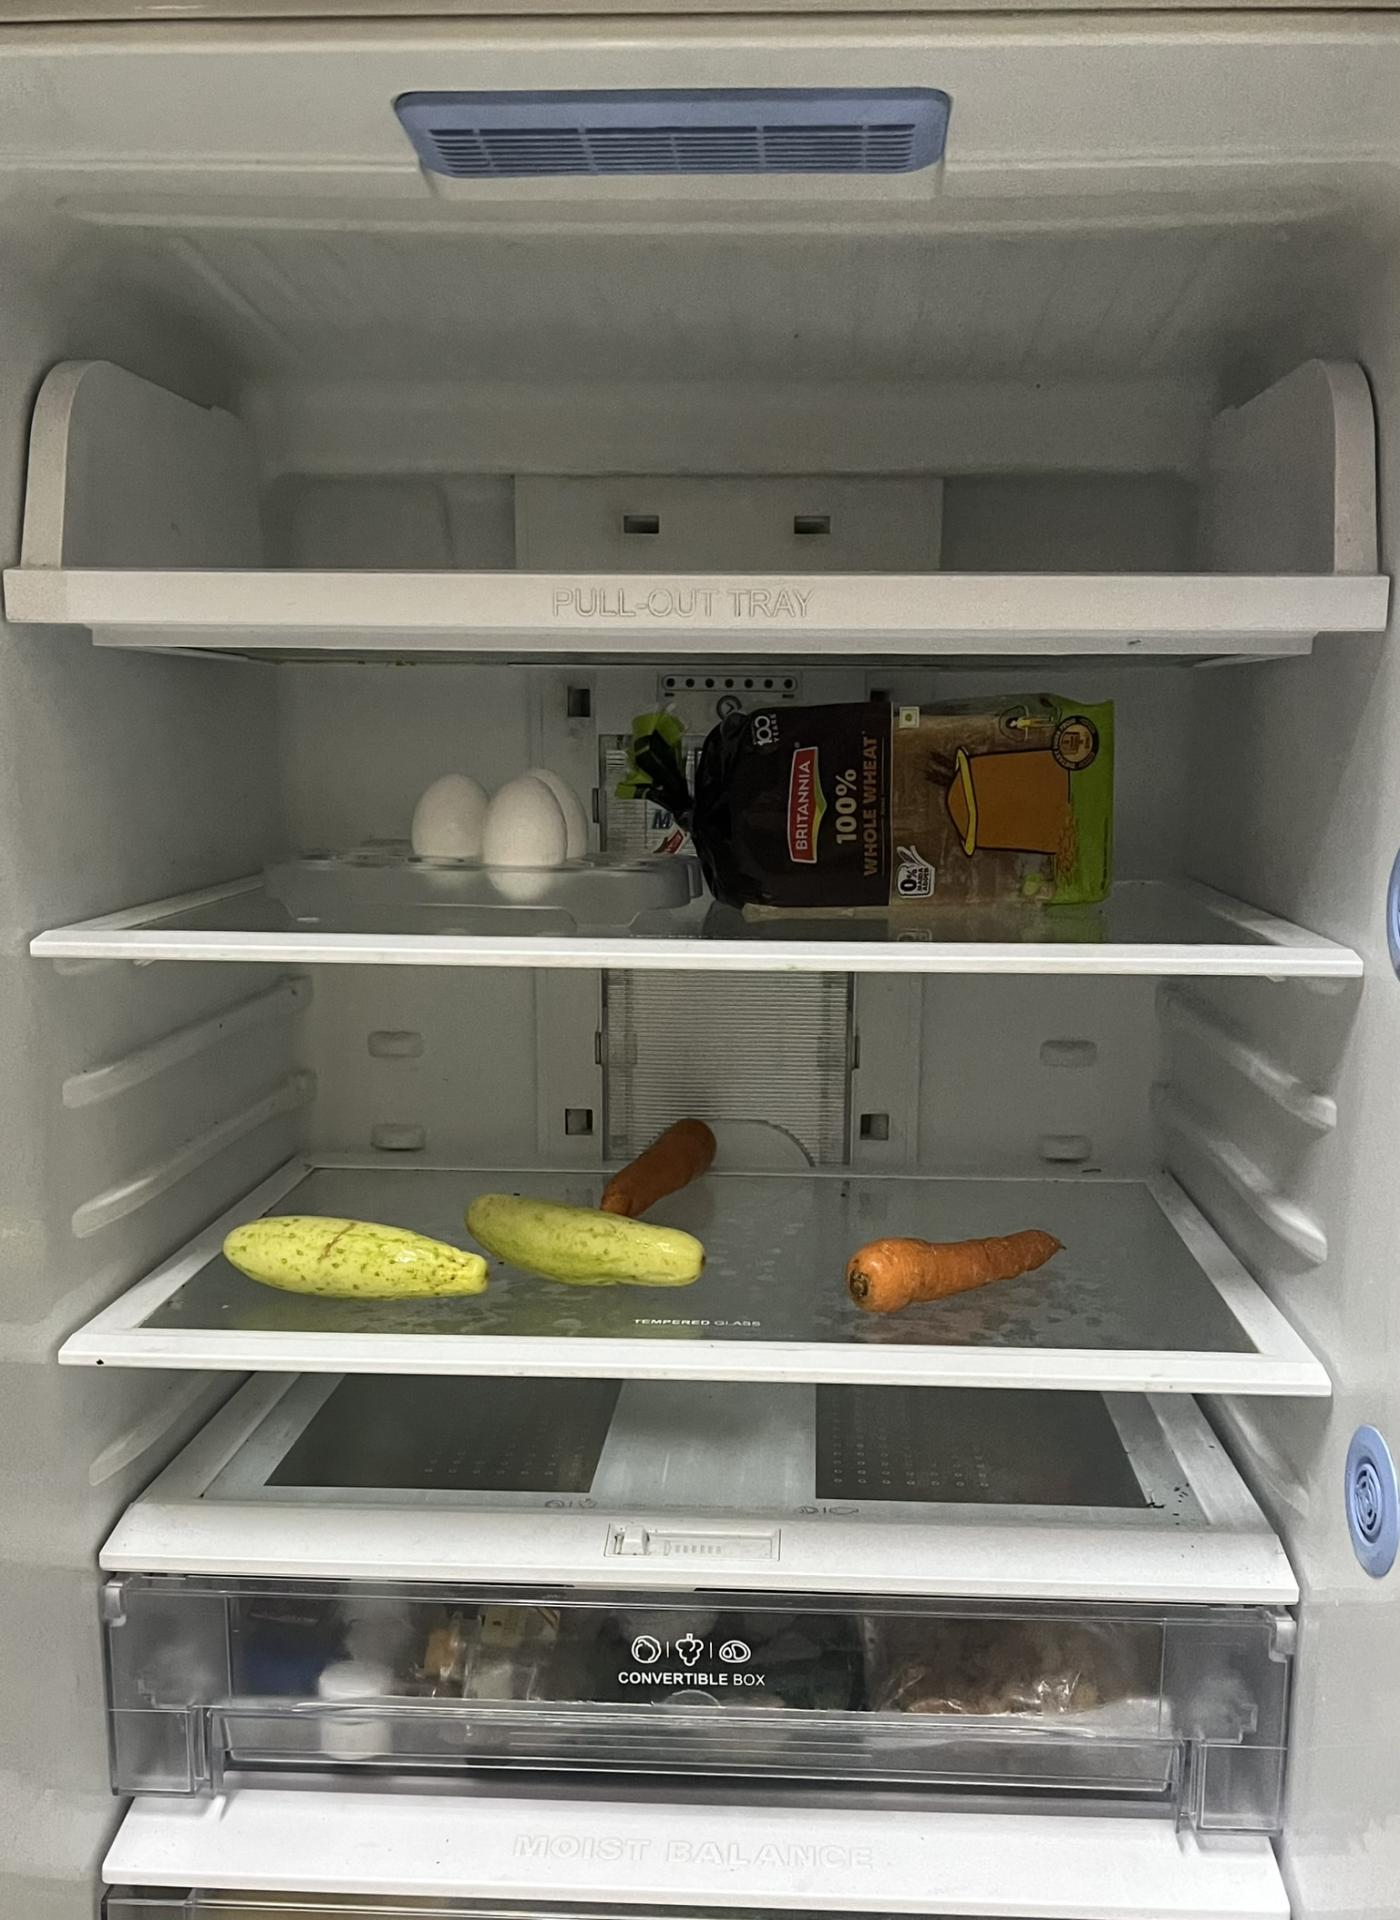bread: (671, 690, 1127, 918)
carrots: (856, 1215, 1063, 1300), (577, 1108, 713, 1234)
cucumber: (447, 1193, 704, 1295), (212, 1206, 491, 1289)
garlic: (403, 762, 589, 918)
